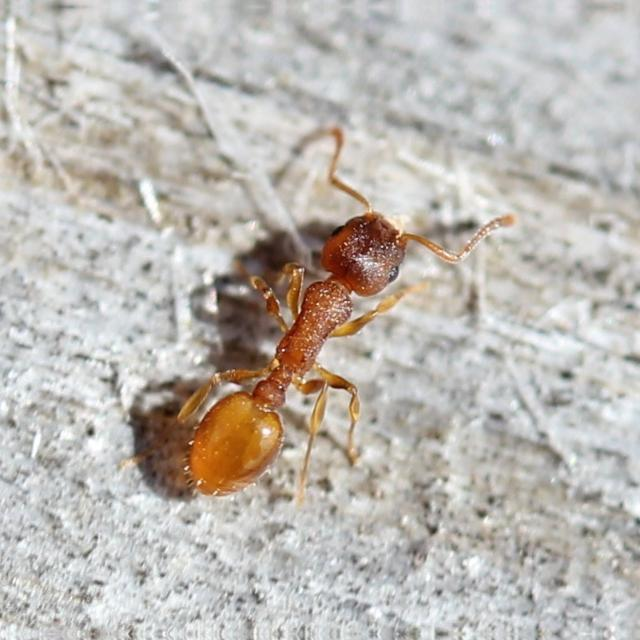Temnothorax: (136, 147, 466, 523)
